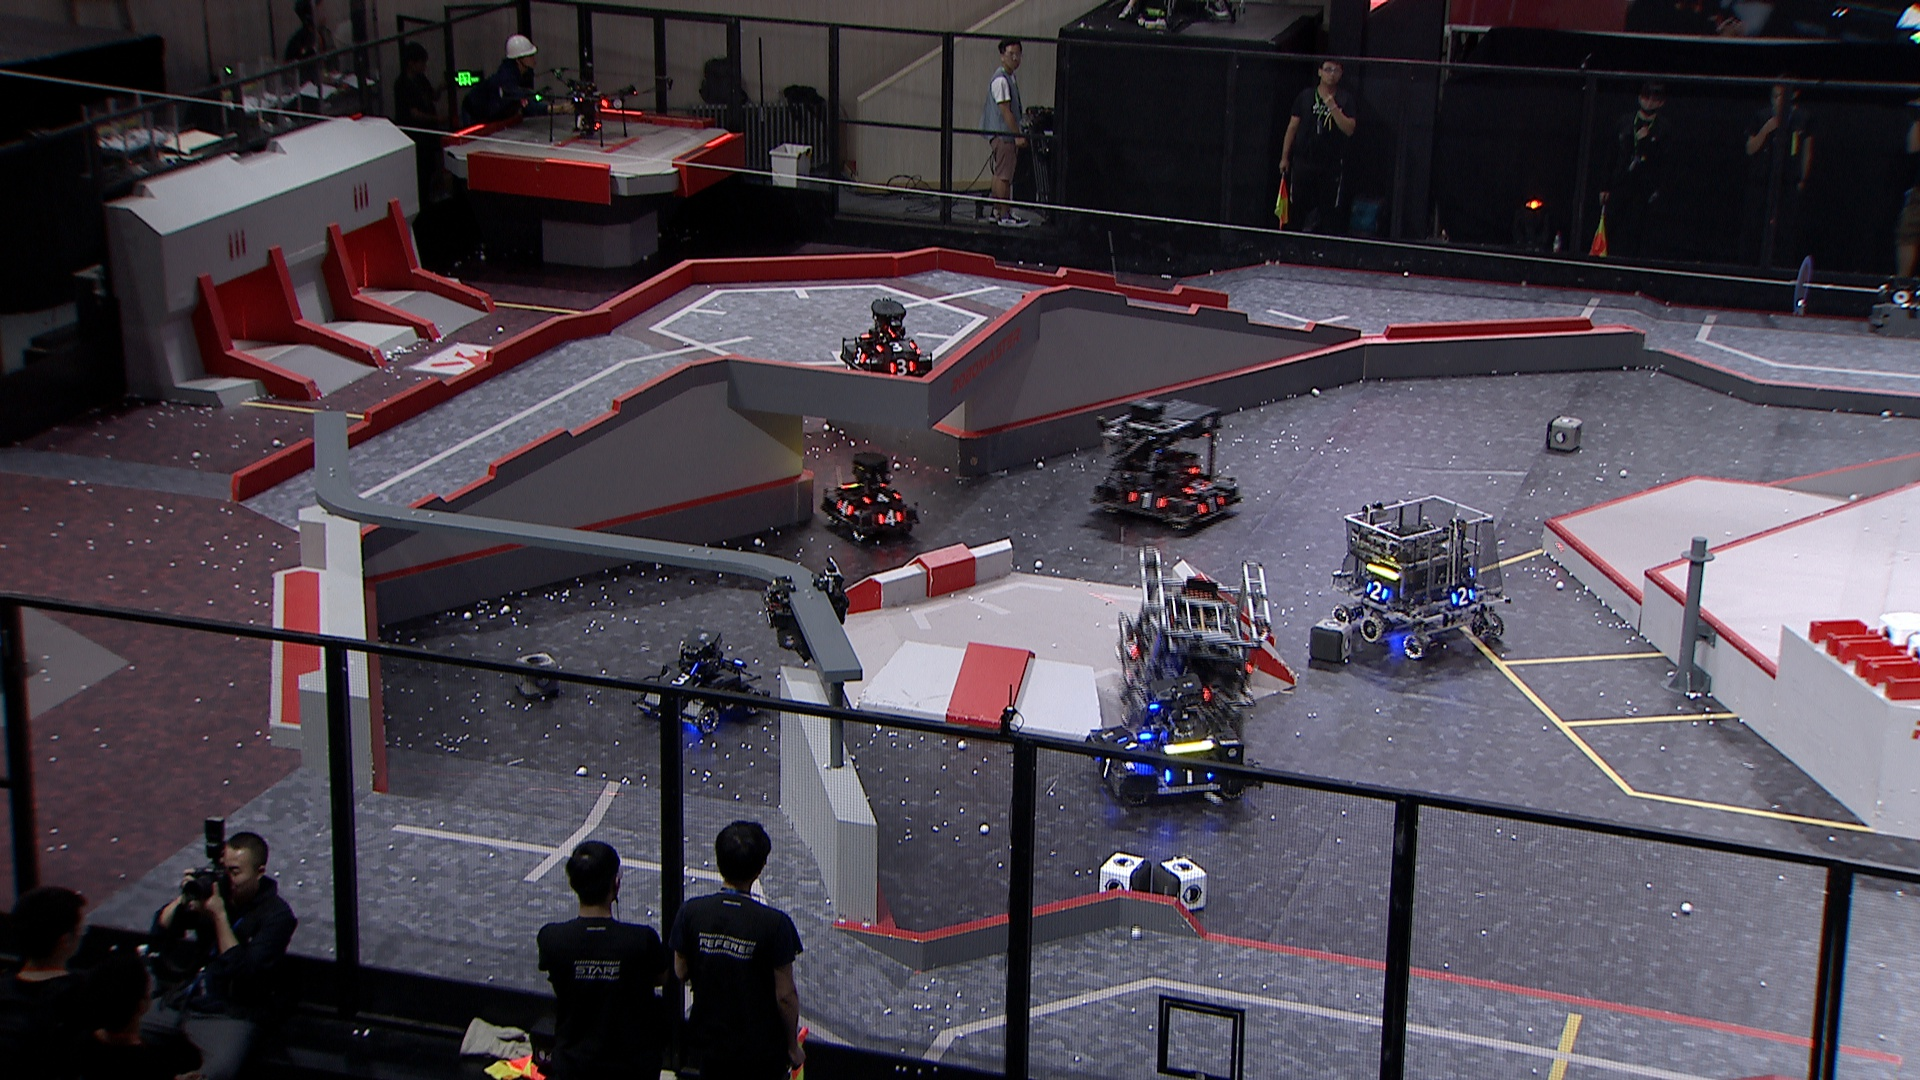armor: (1163, 756, 1216, 787), (1087, 745, 1117, 782), (1114, 731, 1145, 766), (662, 669, 704, 694), (1195, 491, 1229, 520), (858, 488, 903, 509), (1129, 488, 1168, 512), (873, 334, 916, 353), (1178, 473, 1215, 496), (1447, 582, 1476, 609), (884, 357, 918, 378), (1364, 576, 1389, 603), (1121, 632, 1143, 661), (877, 508, 907, 527), (849, 344, 872, 367), (833, 498, 856, 518)
car: (1327, 491, 1505, 665), (1114, 543, 1273, 716), (1079, 675, 1251, 806), (1095, 396, 1240, 529), (636, 629, 771, 735), (822, 448, 920, 549), (836, 295, 934, 384)
watcher: (757, 553, 855, 661)
